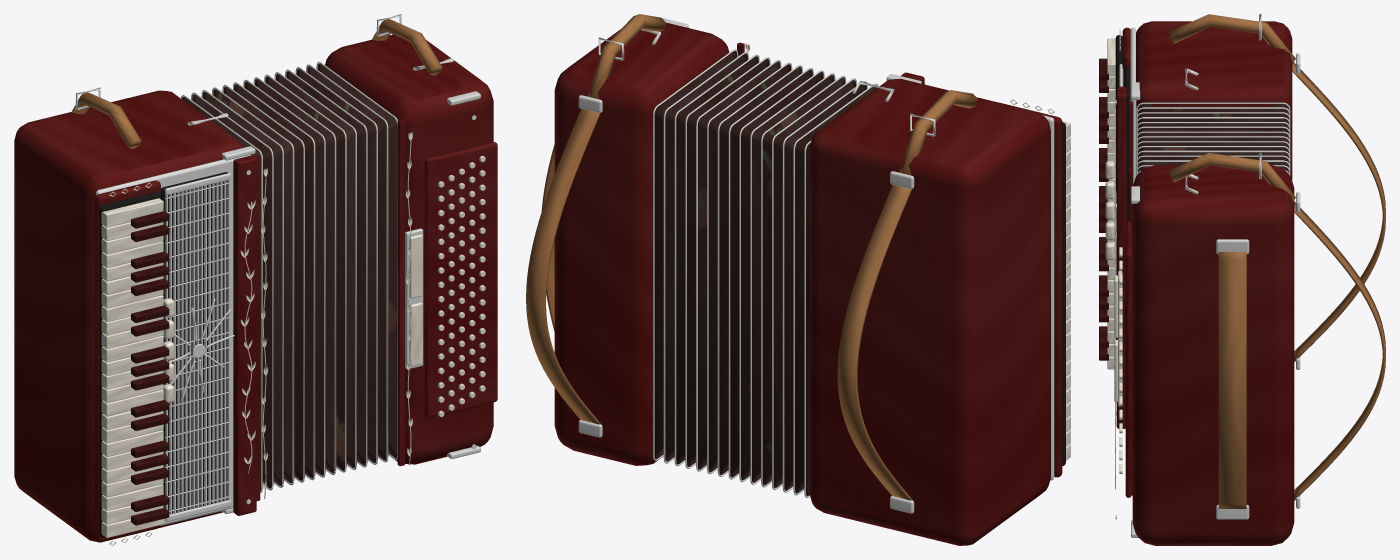
File: accordion-r02.glb
The picture shows the model from 3 angles, left to right: view 1: azimuth 30°, elevation 25°; view 2: azimuth 150°, elevation 25°; view 3: azimuth 270°, elevation 25°; orthographic projection. The views are drawn at different scales.
Parts seen in each view (by area): view 1: accordion_Glossy dark cherry wood, accordion_Oxblood floral bellows, accordion_Polished silver fittings, accordion_Pearloid keys and buttons, accordion_Recessed grille shadows, accordion_Dark red raised keys, accordion_Ivory floral inlay, accordion_Tan leather straps; view 2: accordion_Glossy dark cherry wood, accordion_Oxblood floral bellows, accordion_Polished silver fittings, accordion_Tan leather straps, accordion_Pearloid keys and buttons, accordion_Recessed grille shadows; view 3: accordion_Glossy dark cherry wood, accordion_Tan leather straps, accordion_Polished silver fittings, accordion_Oxblood floral bellows, accordion_Pearloid keys and buttons, accordion_Dark red raised keys, accordion_Recessed grille shadows.
Part boxes in pixels (<box>): accordion_Glossy dark cherry wood: <box>14,34,497,542</box>; accordion_Oxblood floral bellows: <box>182,63,397,490</box>; accordion_Polished silver fittings: <box>75,14,480,525</box>; accordion_Pearloid keys and buttons: <box>101,155,485,537</box>; accordion_Recessed grille shadows: <box>99,172,228,537</box>; accordion_Dark red raised keys: <box>130,211,169,525</box>; accordion_Ivory floral inlay: <box>109,132,412,545</box>; accordion_Tan leather straps: <box>71,19,442,148</box>; accordion_Glossy dark cherry wood: <box>554,22,1062,545</box>; accordion_Oxblood floral bellows: <box>654,51,876,496</box>; accordion_Polished silver fittings: <box>578,17,1054,513</box>; accordion_Tan leather straps: <box>526,14,977,502</box>; accordion_Pearloid keys and buttons: <box>1062,121,1070,460</box>; accordion_Recessed grille shadows: <box>1062,122,1065,465</box>; accordion_Glossy dark cherry wood: <box>1116,21,1294,545</box>; accordion_Tan leather straps: <box>1168,14,1385,508</box>; accordion_Polished silver fittings: <box>1114,14,1300,537</box>; accordion_Oxblood floral bellows: <box>1138,104,1288,172</box>; accordion_Pearloid keys and buttons: <box>1105,38,1122,473</box>; accordion_Dark red raised keys: <box>1099,58,1108,360</box>; accordion_Recessed grille shadows: <box>1115,35,1129,339</box>.
Size of the model in its own units: 0.6235 by 0.5439 by 0.3725.
8 materials, 5 textured.
